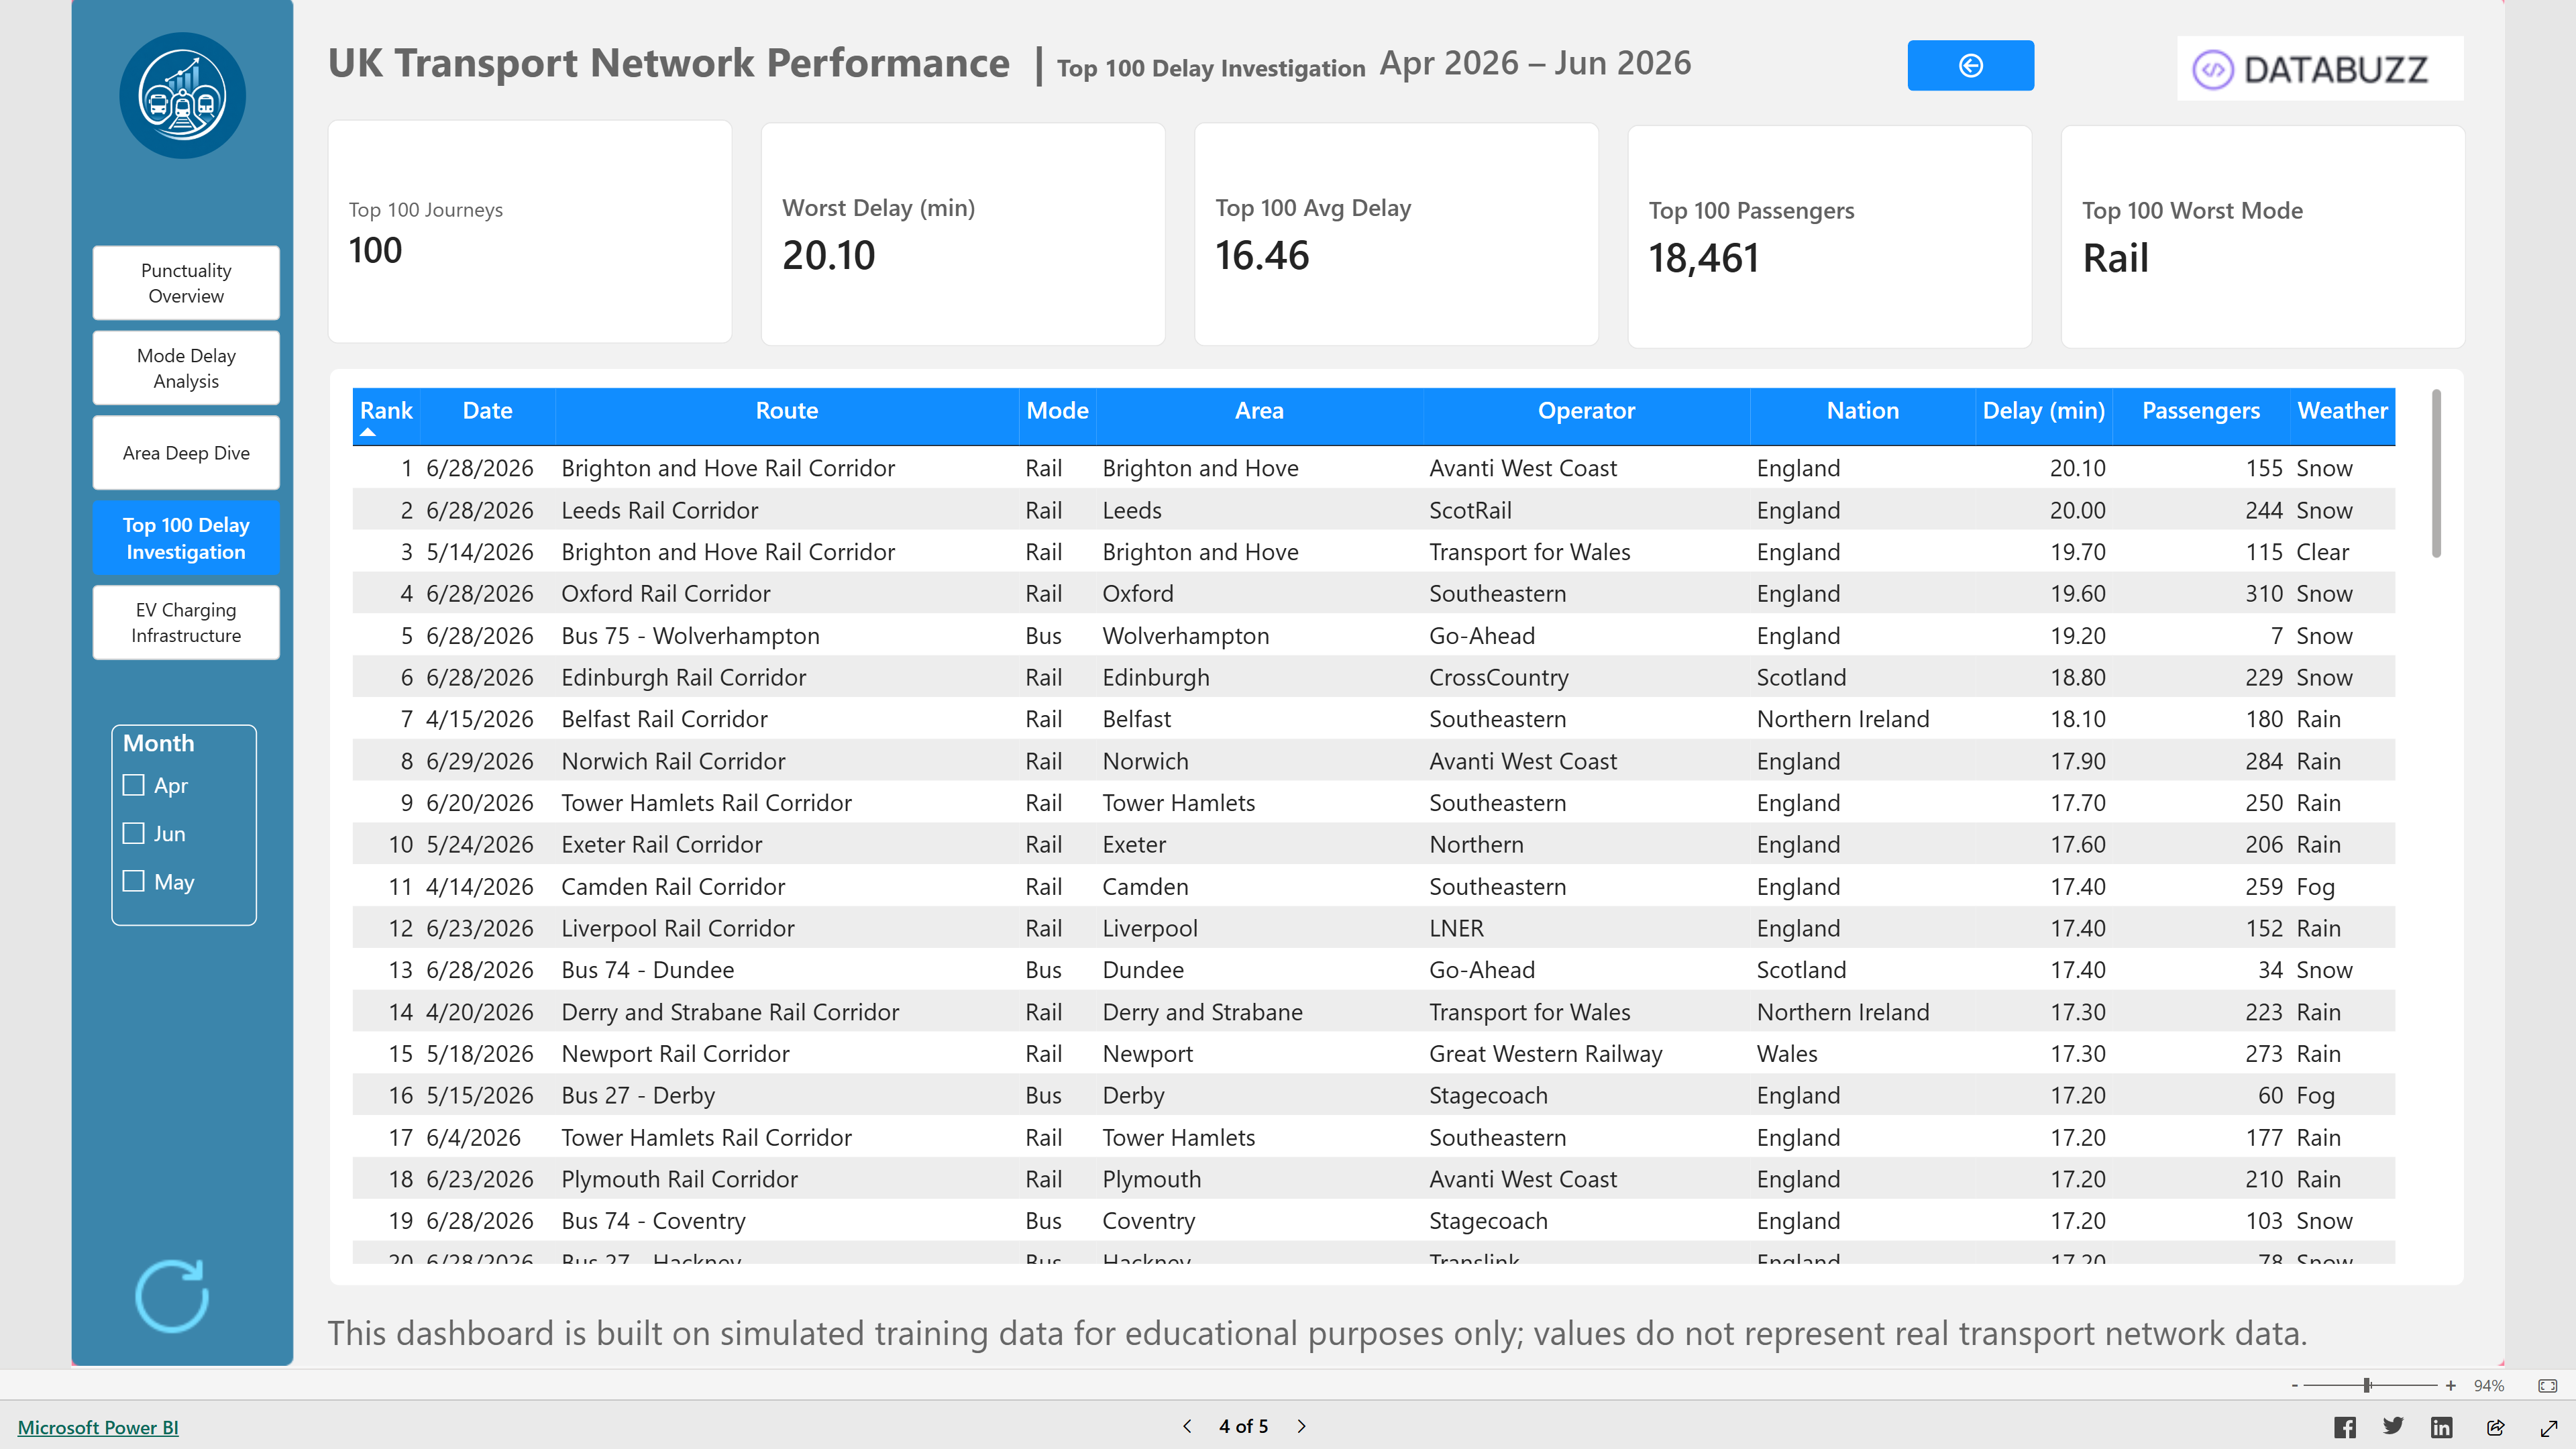

The page's visual inventory and layout, read from the dashboard file:
{"tool":"powerbi","page":{"name":"Top 100 Delay Investigation","canvas":[1920,1080],"ordinal":3},"visuals":[{"type":"cardVisual","fields":{"Data":["Calculations.Top 100 Journeys"]},"box":[202.5,93.9,320,177.4],"z":0},{"type":"cardVisual","fields":{"Data":["Calculations.Worst Delay (min)"]},"box":[544.4,95.9,320,177.4],"z":1000},{"type":"cardVisual","fields":{"Data":["Calculations.Top 100 Avg Delay"]},"box":[886.3,95.9,320,177.4],"z":2000},{"type":"cardVisual","fields":{"Data":["Calculations.Top 100 Passengers"]},"box":[1228.2,98,320,177.4],"z":3000},{"type":"cardVisual","fields":{"Data":["Calculations.Top 100 Worst Mode"]},"box":[1570,98.9,320,177.4],"z":4000},{"type":"image","box":[1662.5,25.5,226.2,57.5],"z":5000},{"type":"textbox","box":[202.5,25,897.5,57.5],"z":6000},{"type":"cardVisual","fields":{"Data":["Calculations.Selected Period"]},"box":[1016.2,0,320,95],"z":7000},{"type":"textbox","box":[202.5,1032.5,1652.5,47.5],"z":10000},{"type":"slicer","fields":{"Values":["Calendar.Month"]},"box":[31.9,571.9,114.8,159.4],"z":11000},{"type":"image","box":[38.3,25.5,99.9,99.9],"z":12000},{"type":"actionButton","box":[1449.9,31.9,100,40],"z":19001},{"type":"tableEx","fields":{"Values":["vw_Top100_Delayed_Journeys.delay_rank","vw_Top100_Delayed_Journeys.journey_date","dim_routes.route_name","dim_routes.mode","dim_areas.area_name","vw_Top100_Delayed_Journeys.operator","vw_Top100_Delayed_Journeys.nation","Sum(vw_Top100_Delayed_Journeys.delay_minutes)","Sum(vw_Top100_Delayed_Journeys.passengers_boarded)","vw_Top100_Delayed_Journeys.weather_condition"]},"box":[204.1,291.3,1683.8,722.8],"z":19002},{"type":"image","box":[21.3,984.3,116.9,76.5],"z":19003},{"type":"pageNavigator","box":[17,193.5,148.8,329.5],"z":19004}]}

Visuals, with their boxes on the page's 1920x1080 design canvas (x1, y1, x2, y2). These are canvas units, not pixel positions in the 2576x1449 screenshot, which may show the page scaled, cropped or inside an application window:
cardVisual - Calculations.Top 100 Journeys: [202,94,522,271]
cardVisual - Calculations.Worst Delay (min): [544,96,864,273]
cardVisual - Calculations.Top 100 Avg Delay: [886,96,1206,273]
cardVisual - Calculations.Top 100 Passengers: [1228,98,1548,275]
cardVisual - Calculations.Top 100 Worst Mode: [1570,99,1890,276]
image: [1662,26,1889,83]
textbox: [202,25,1100,82]
cardVisual - Calculations.Selected Period: [1016,0,1336,95]
textbox: [202,1032,1855,1080]
slicer - Calendar.Month: [32,572,147,731]
image: [38,26,138,125]
actionButton: [1450,32,1550,72]
tableEx - vw_Top100_Delayed_Journeys.delay_rank x vw_Top100_Delayed_Journeys.journey_date: [204,291,1888,1014]
image: [21,984,138,1061]
pageNavigator: [17,194,166,523]
